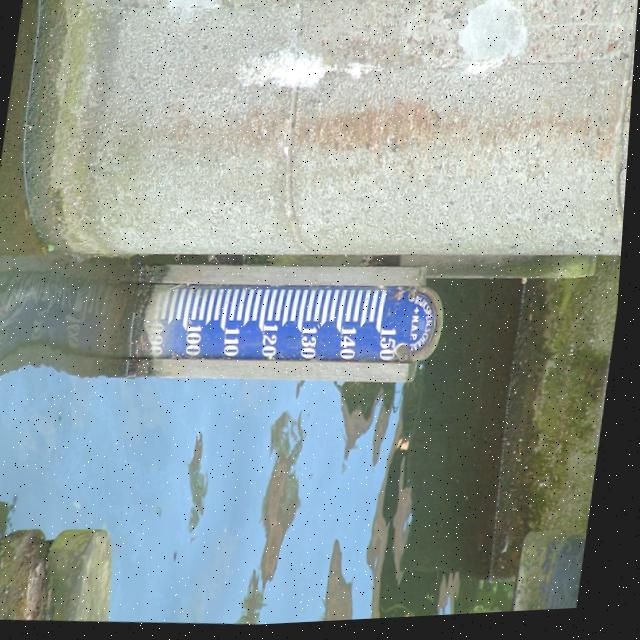water-meter: (108, 260, 442, 385)
